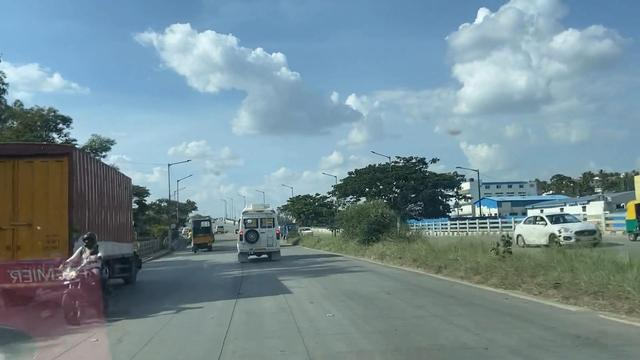HMV: (19, 131, 148, 295), (242, 208, 280, 266), (184, 208, 214, 259)
LMV: (63, 228, 107, 316)
